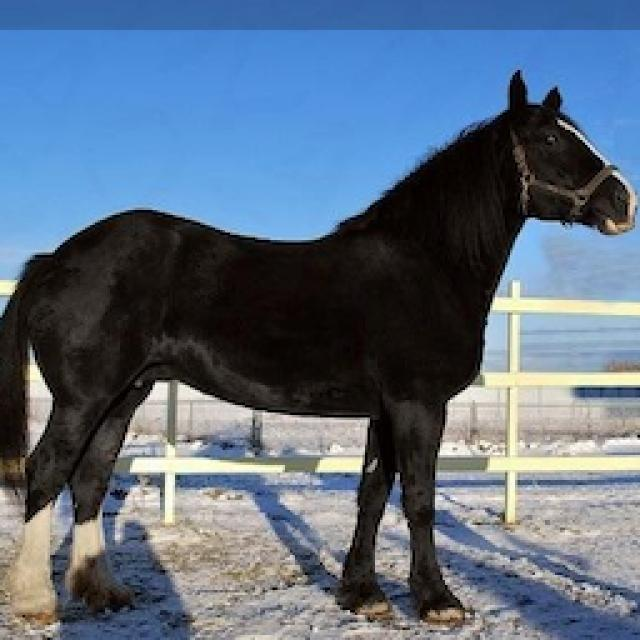Horse: (2, 65, 640, 638)
